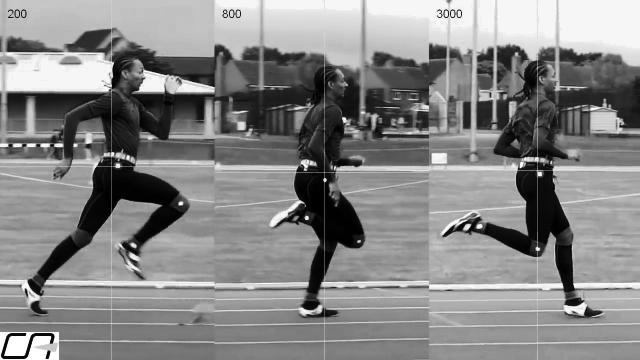berlari: (17, 49, 191, 323), (438, 58, 606, 324), (270, 51, 372, 323)
